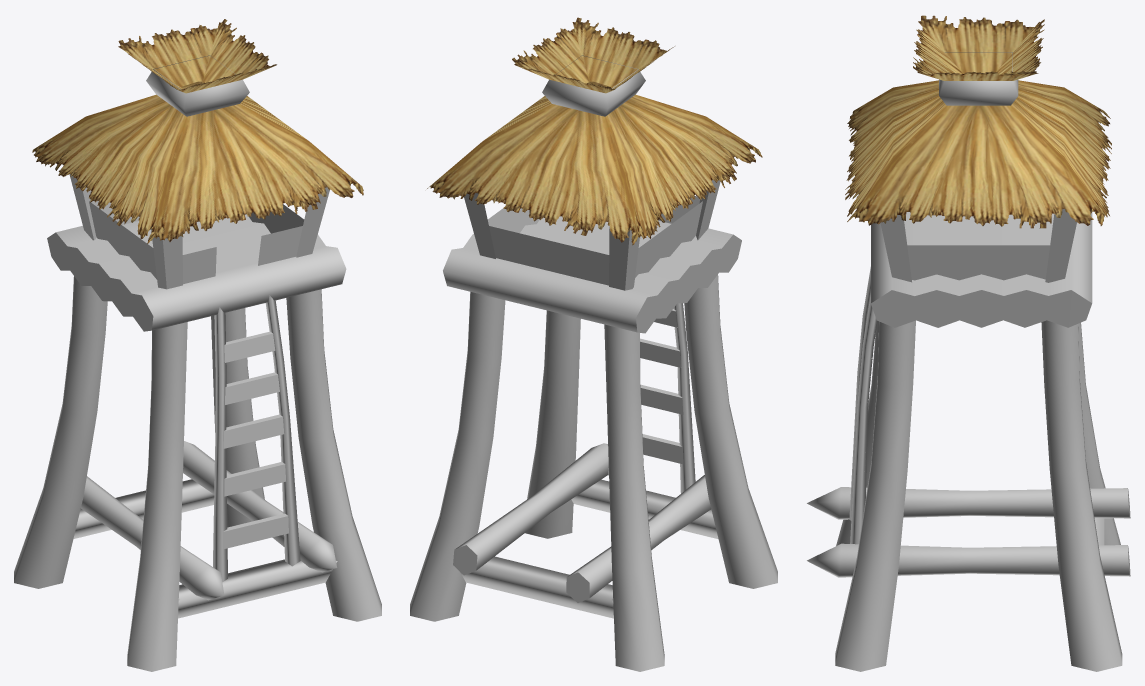
The model's file is talou.FBX.
3 renders of one model, left to right at view 1: azimuth 30°, elevation 25°; view 2: azimuth 150°, elevation 25°; view 3: azimuth 270°, elevation 25°, orthographic. The views are drawn at different scales.
Parts seen in each view (by area): view 1: talou; view 2: talou; view 3: talou.
Boxes of the visible parts, x1,y1,x2,y2 form: talou: [14, 19, 381, 671]; talou: [410, 17, 777, 671]; talou: [807, 15, 1130, 671].
Size of the model in its own units: 137 by 279 by 145.
